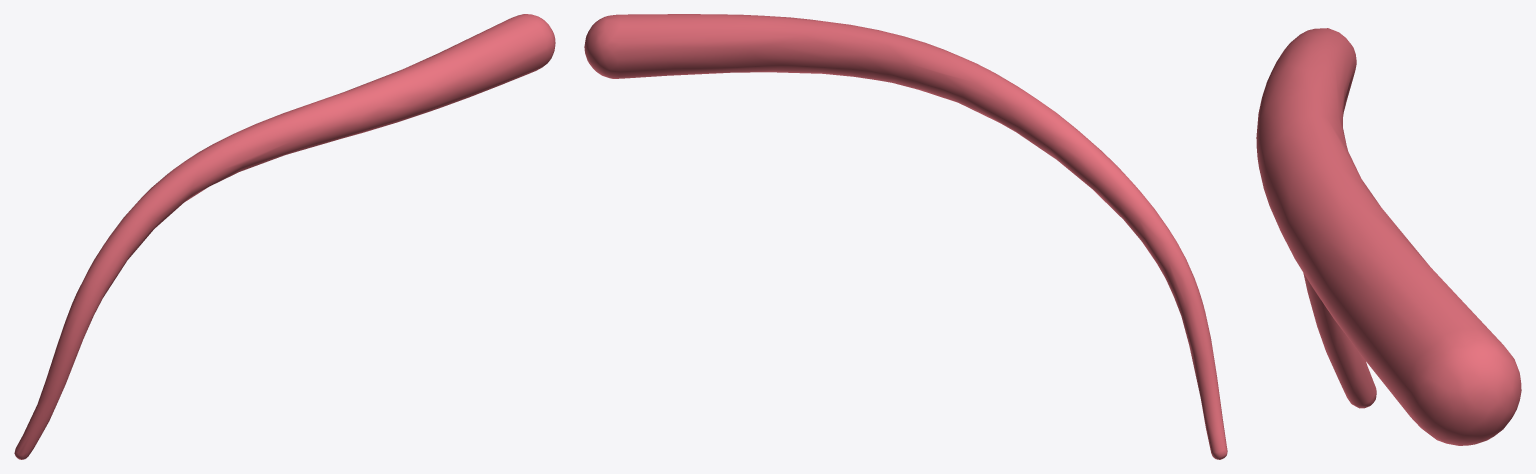
File: fma15793_fj1867.glb
The picture shows the model from 3 angles, left to right: view 1: azimuth 30°, elevation 25°; view 2: azimuth 150°, elevation 25°; view 3: azimuth 270°, elevation 25°; orthographic projection. The views are drawn at different scales.
Visible parts, largest first — view 1: FMA15793_FJ1867; view 2: FMA15793_FJ1867; view 3: FMA15793_FJ1867.
Part boxes in pixels (left/top/right/bottom): FMA15793_FJ1867: left=14, top=14, right=555, bottom=459; FMA15793_FJ1867: left=584, top=14, right=1227, bottom=459; FMA15793_FJ1867: left=1256, top=28, right=1521, bottom=445.
Bounding box in the file's own units: 0.0413 × 0.0213 × 0.00844.
